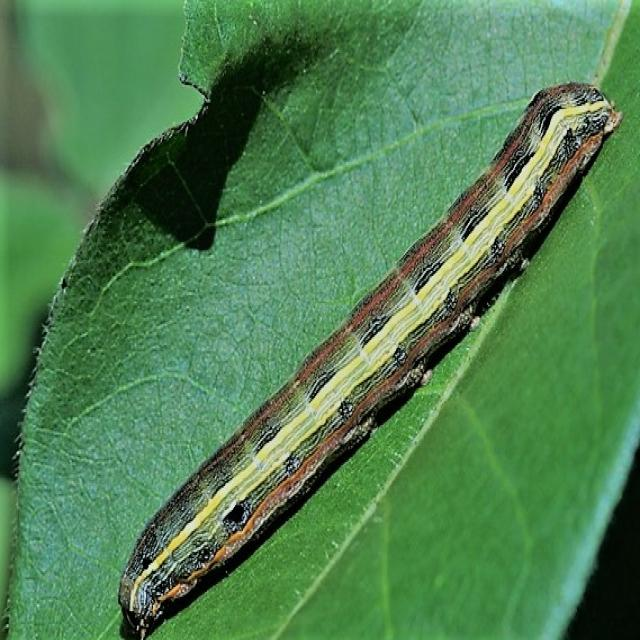armyworm: (116, 79, 622, 636)
